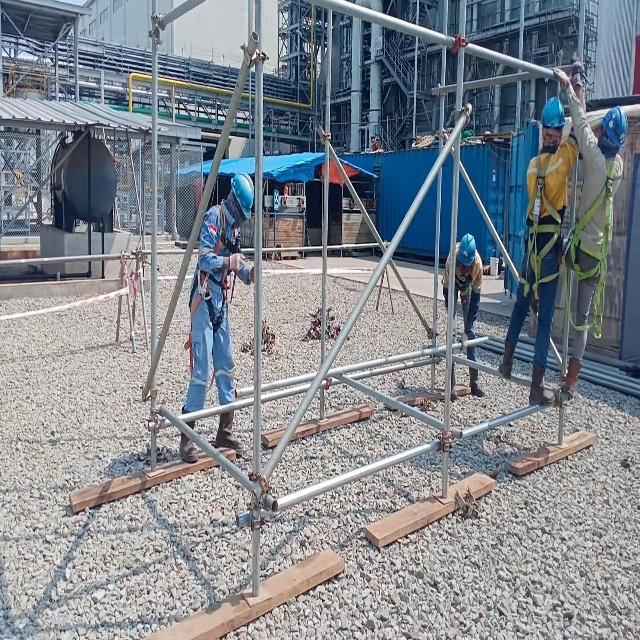Arnes_seguridad: (564, 150, 617, 341), (514, 144, 563, 305), (185, 201, 239, 336)
